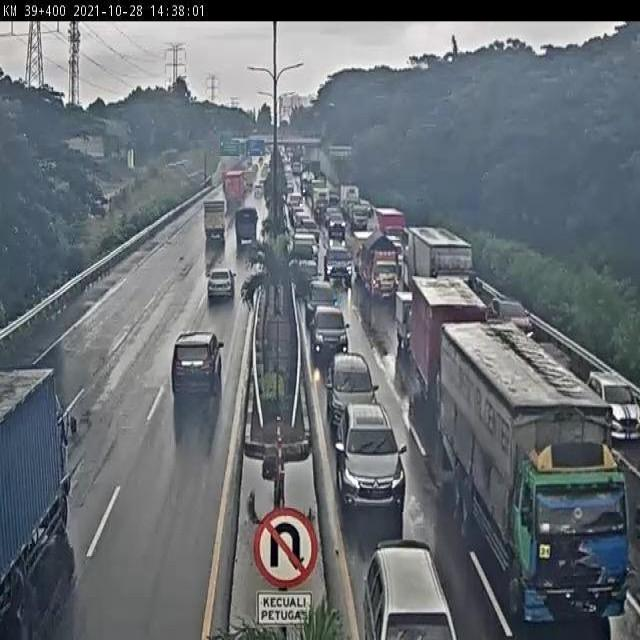big truck: (435, 320, 640, 640), (1, 353, 91, 640)
car: (362, 538, 460, 640), (333, 400, 414, 517), (164, 319, 231, 413), (586, 356, 640, 453), (323, 353, 384, 432), (486, 289, 547, 348), (309, 302, 360, 362), (321, 240, 363, 292), (202, 259, 245, 305), (303, 281, 338, 324)
small truck: (403, 270, 495, 398), (366, 240, 408, 304), (201, 200, 232, 247), (232, 207, 262, 249)
